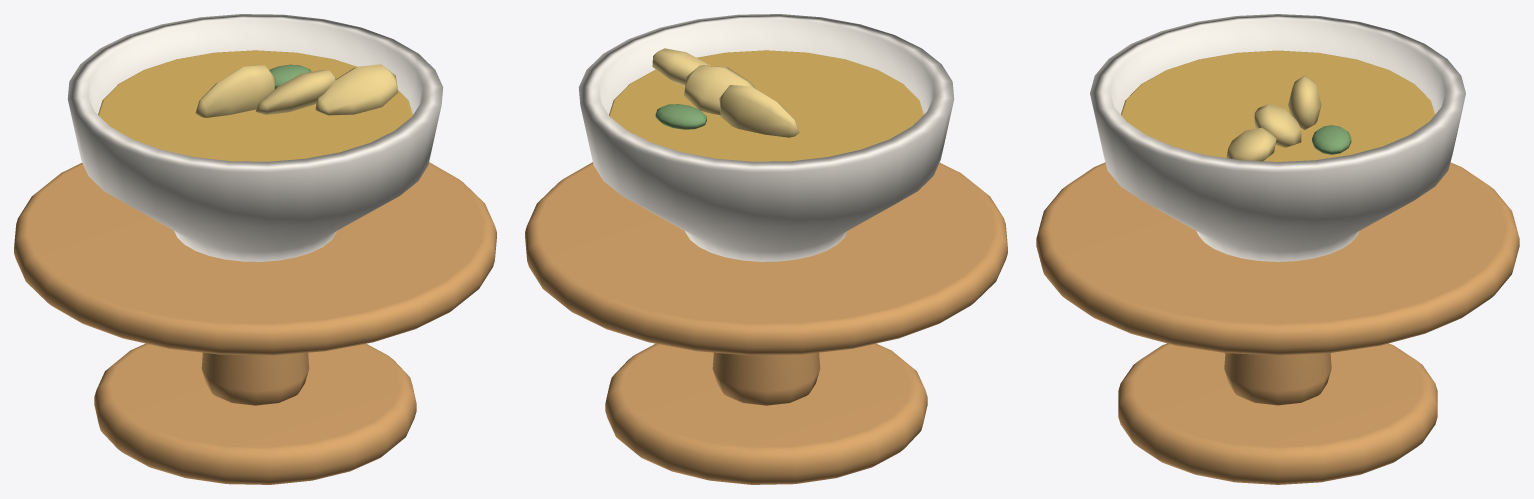
File: bamboo_shoot_soup.glb
3 views of the same model, side by side, from view 1: azimuth 30°, elevation 25°; view 2: azimuth 150°, elevation 25°; view 3: azimuth 270°, elevation 25° (orthographic).
Visible parts, largest first — view 1: bamboo_shoot_soup_mesh; view 2: bamboo_shoot_soup_mesh; view 3: bamboo_shoot_soup_mesh.
Boxes of the visible parts, bbox=[...] form: bamboo_shoot_soup_mesh: bbox=[14, 14, 496, 484]; bamboo_shoot_soup_mesh: bbox=[525, 14, 1007, 484]; bamboo_shoot_soup_mesh: bbox=[1036, 14, 1519, 484].
Bounding box in the file's own units: 0.36 × 0.2834 × 0.36.
